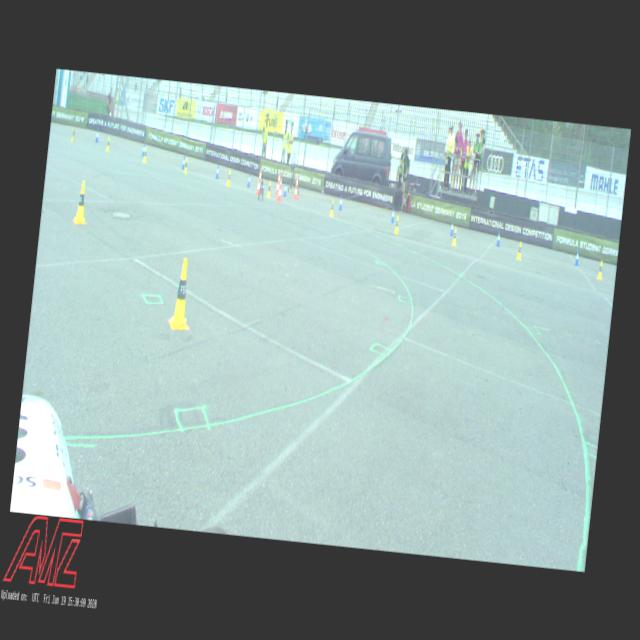blue_cone: (495, 230, 501, 246), (574, 249, 580, 265), (282, 181, 288, 196), (390, 206, 395, 222), (338, 194, 343, 210), (450, 220, 454, 236), (215, 164, 219, 178), (247, 173, 251, 187), (141, 143, 145, 156), (181, 156, 185, 169), (95, 128, 98, 142)
large_orange_cone: (255, 167, 263, 194), (276, 176, 284, 201), (292, 174, 299, 200), (274, 171, 280, 195)
yellow_cone: (168, 257, 194, 330), (72, 180, 90, 224), (596, 260, 604, 279), (516, 241, 522, 260), (266, 180, 272, 198), (452, 227, 458, 245), (329, 198, 335, 216), (226, 169, 232, 186), (70, 125, 76, 142), (142, 146, 148, 162), (182, 158, 188, 174), (394, 214, 399, 233), (106, 136, 110, 152)
